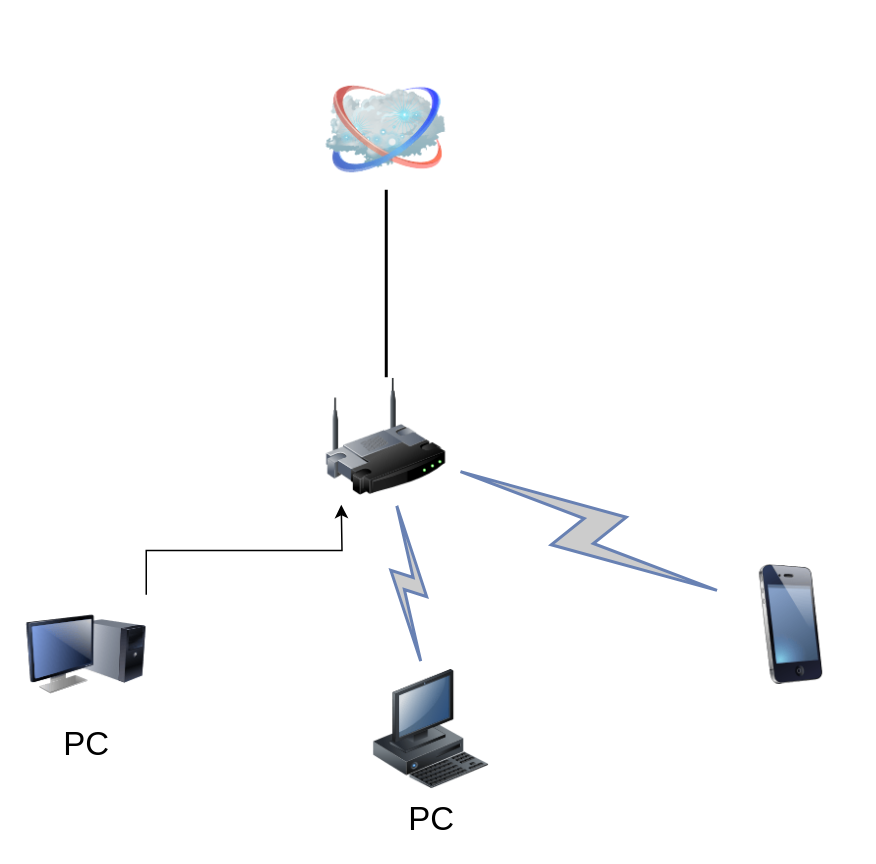
This 876x864 diagram has some shape labels left out. The shapes that lost their labels are listed below. From the top down, each one's box as (x1, y1, x2, y2) in pixels, then its label:
(326, 69, 446, 189): Internet
(730, 564, 850, 684): Mobile
